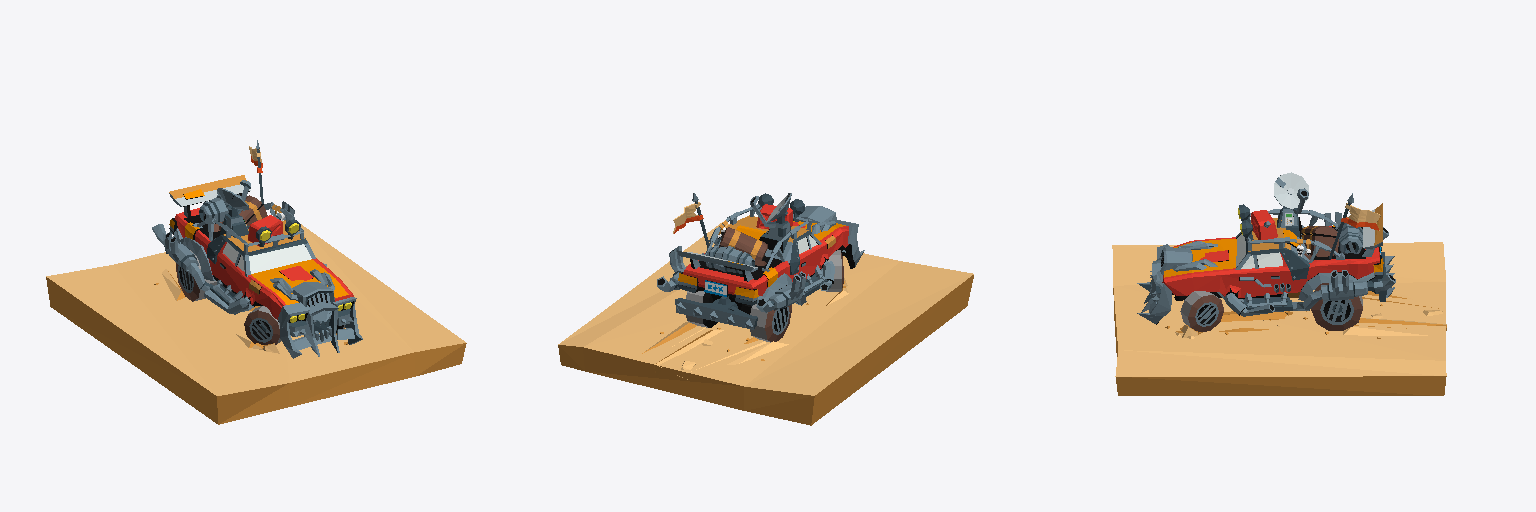
3 views of the same model, side by side, from view 1: azimuth 30°, elevation 25°; view 2: azimuth 150°, elevation 25°; view 3: azimuth 270°, elevation 25° (orthographic).
Parts seen in each view (by area): view 1: group[number redacted], group[number redacted], group[number redacted], group[number redacted], group[number redacted], group[number redacted], group[number redacted], group[number redacted], group[number redacted], group[number redacted]; view 2: group[number redacted], group[number redacted], group[number redacted], group[number redacted], group[number redacted], group[number redacted], group[number redacted], group[number redacted], group[number redacted], group[number redacted], group[number redacted], group[number redacted]; view 3: group[number redacted], group[number redacted], group[number redacted], group[number redacted], group[number redacted], group[number redacted], group[number redacted], group[number redacted], group[number redacted], group[number redacted], group[number redacted], group[number redacted] (+3 smaller).
Part boxes in pixels (x1,y1,x2,y2): group[number redacted]: (46, 224, 466, 424); group[number redacted]: (175, 208, 353, 319); group[number redacted]: (278, 297, 362, 358); group[number redacted]: (152, 224, 253, 311); group[number redacted]: (169, 175, 250, 217); group[number redacted]: (244, 306, 281, 344); group[number redacted]: (207, 220, 307, 263); group[number redacted]: (292, 282, 334, 306); group[number redacted]: (176, 250, 216, 301); group[number redacted]: (248, 213, 282, 246); group[number redacted]: (558, 222, 973, 425); group[number redacted]: (683, 221, 848, 295); group[number redacted]: (675, 296, 757, 329); group[number redacted]: (750, 304, 791, 342); group[number redacted]: (756, 268, 822, 312); group[number redacted]: (714, 215, 811, 274); group[number redacted]: (719, 227, 767, 260); group[number redacted]: (706, 246, 754, 273); group[number redacted]: (677, 250, 757, 281); group[number redacted]: (657, 246, 686, 291); group[number redacted]: (673, 193, 709, 247); group[number redacted]: (835, 220, 864, 268); group[number redacted]: (1112, 242, 1446, 395); group[number redacted]: (1162, 226, 1379, 298); group[number redacted]: (1239, 270, 1395, 311); group[number redacted]: (1311, 283, 1362, 330); group[number redacted]: (1180, 291, 1223, 331); group[number redacted]: (1137, 244, 1173, 324); group[number redacted]: (1246, 218, 1309, 280); group[number redacted]: (1274, 172, 1308, 209); group[number redacted]: (1329, 193, 1380, 259); group[number redacted]: (1301, 226, 1338, 256); group[number redacted]: (1337, 223, 1362, 253); group[number redacted]: (1251, 210, 1277, 239).
Bounding box in the file's own units: 4.52 × 2.72 × 5.11.